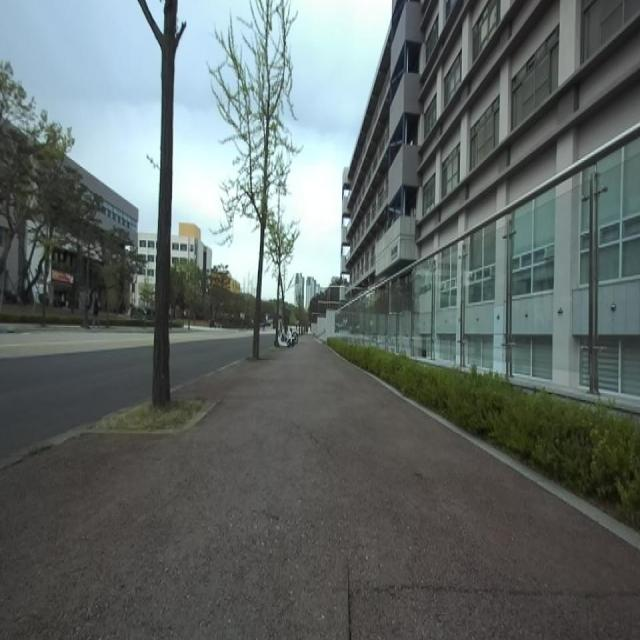sidewalk: (0, 336, 640, 639)
